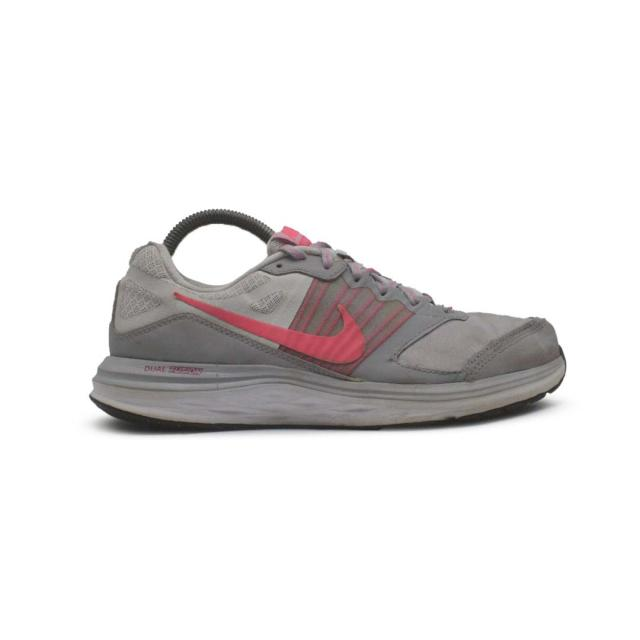heel: (111, 246, 188, 364)
midsole: (91, 352, 568, 430)
uppersole: (172, 225, 558, 382)
